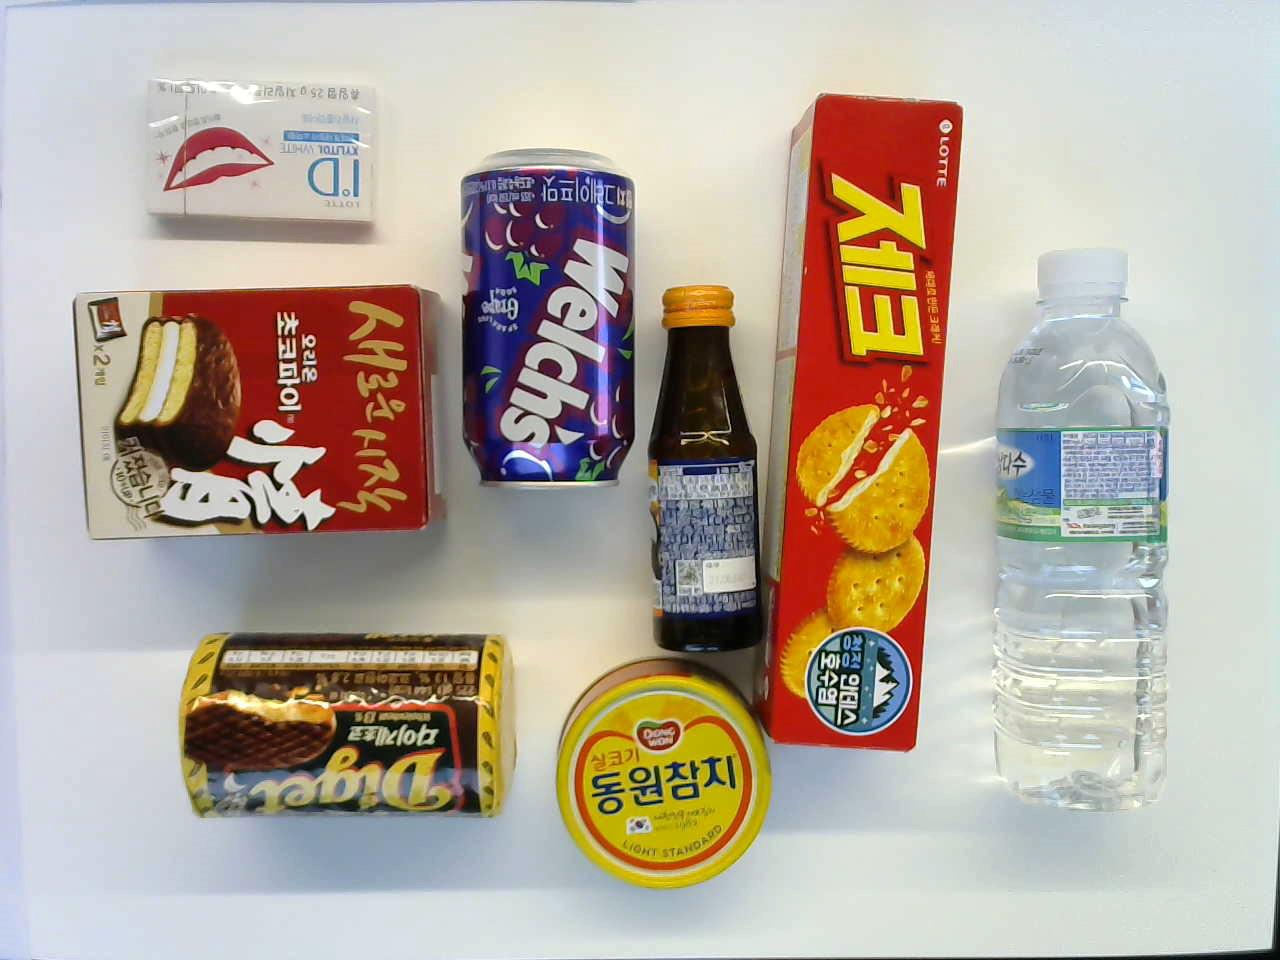ID_gum: (137, 69, 381, 234)
chocopie: (65, 278, 451, 542)
diget_choco: (168, 626, 522, 824)
samdasu: (984, 238, 1178, 814)
tuna: (542, 653, 776, 895)
vita500: (637, 283, 774, 656)
welchs: (984, 238, 1178, 814), (444, 146, 640, 494)
zec: (748, 86, 976, 755)
